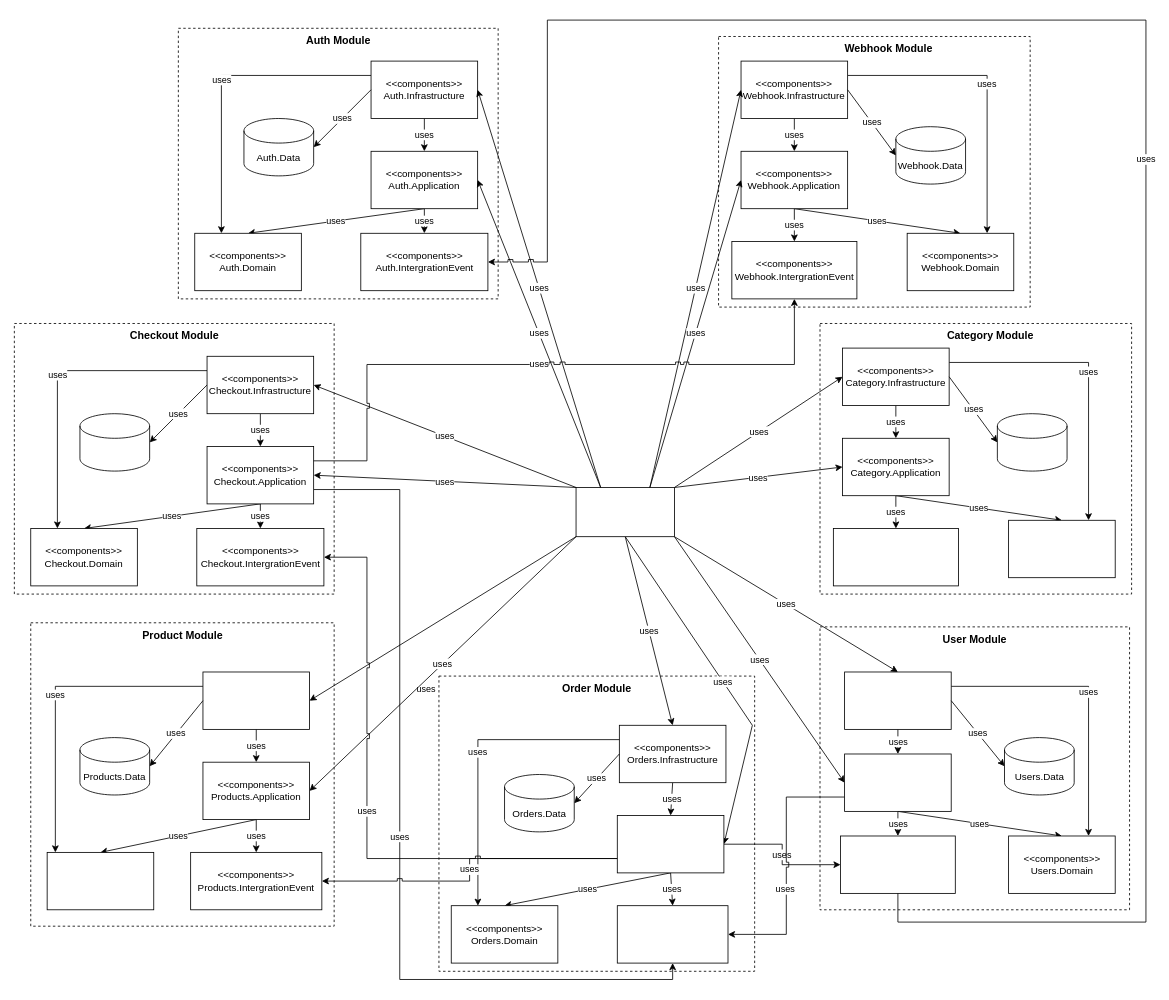
Image size: 1169x1000. Some labels were removed from this diagram. Each missing label, with the box of its shape:
<<components>> API: (575, 487, 674, 537)
<<components>> Category . IntergrationEvent: (833, 528, 958, 586)
<<components>> Category .Domain: (1008, 519, 1115, 578)
<<components>> Orders . IntergrationEvent: (616, 905, 728, 963)
<<components>> Orders .Application: (616, 815, 724, 873)
<<components>> Products.Domain: (46, 852, 154, 910)
<<components>> Products.Infrastructure: (202, 671, 310, 729)
<<components>> Users .Application: (844, 753, 951, 811)
<<components>> Users .Infrastructure: (844, 671, 951, 729)
<<components>> Users .IntergrationEvent: (840, 835, 955, 893)
Category.Data: (997, 413, 1067, 471)
Checkout.Data: (79, 413, 150, 471)
